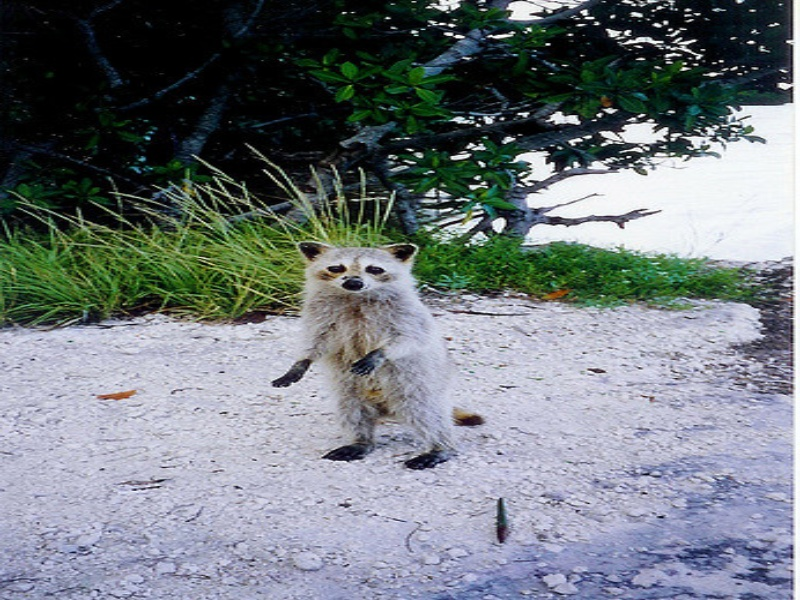raccoon: (274, 236, 486, 471)
